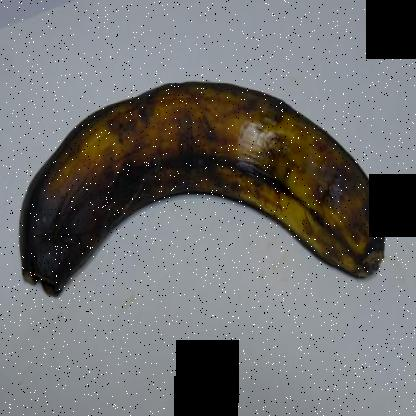overripe: (5, 48, 406, 342)
